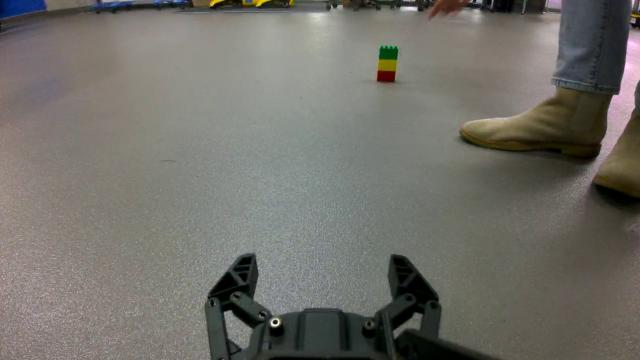lego: (375, 44, 400, 85)
